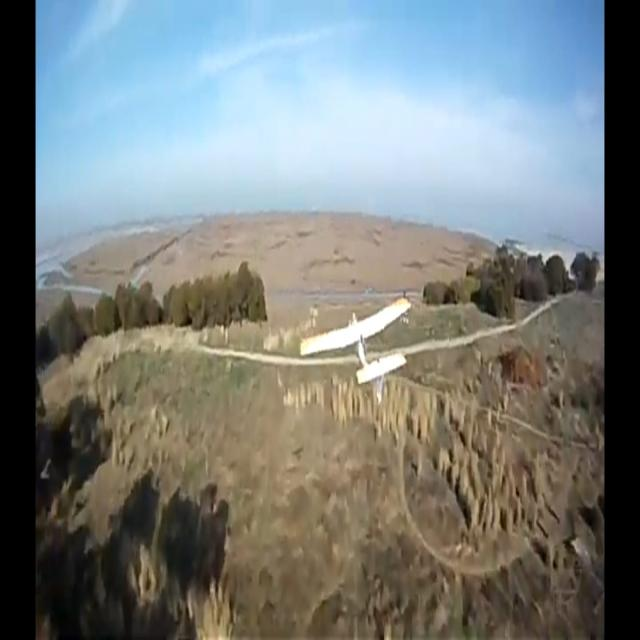iha: (331, 327, 380, 352)
